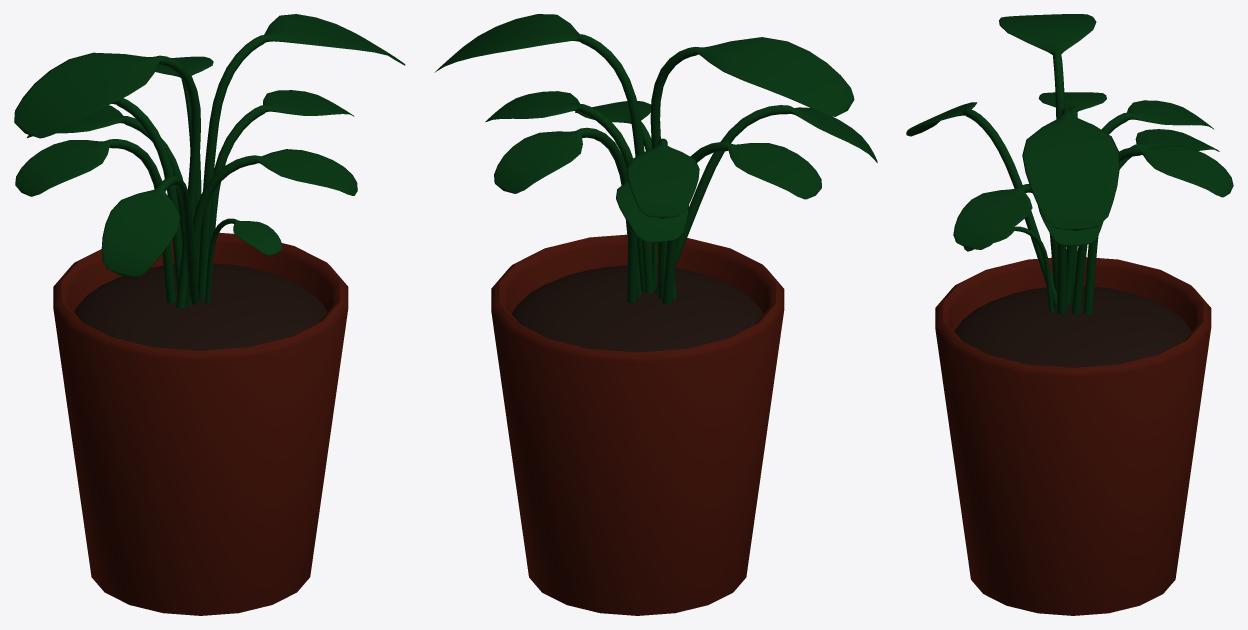
The model's file is Pot.fbx.
3 renders of one model, left to right at view 1: azimuth 30°, elevation 25°; view 2: azimuth 150°, elevation 25°; view 3: azimuth 270°, elevation 25°, orthographic. The views are drawn at different scales.
Visible parts, largest first — view 1: Cylinder001, Sphere001, Cylinder009, Cylinder008, Cylinder002, Cylinder003, Cylinder006, Cylinder010, Cylinder004, Cylinder005, Cylinder007; view 2: Cylinder001, Sphere001, Cylinder009, Cylinder004, Cylinder007, Cylinder002, Cylinder008, Cylinder006, Cylinder005, Cylinder003; view 3: Cylinder001, Sphere001, Cylinder009, Cylinder003, Cylinder007, Cylinder004, Cylinder008, Cylinder005, Cylinder006, Cylinder002, Cylinder010.
Boxes of the visible parts, bbox=[...] form: Cylinder001: bbox=[53, 232, 348, 615]; Sphere001: bbox=[74, 263, 327, 350]; Cylinder009: bbox=[14, 14, 405, 308]; Cylinder008: bbox=[101, 175, 198, 304]; Cylinder002: bbox=[15, 139, 175, 303]; Cylinder003: bbox=[186, 149, 357, 305]; Cylinder006: bbox=[209, 90, 354, 248]; Cylinder010: bbox=[205, 218, 282, 303]; Cylinder004: bbox=[111, 98, 182, 293]; Cylinder005: bbox=[27, 105, 183, 244]; Cylinder007: bbox=[155, 56, 213, 284]; Cylinder001: bbox=[491, 234, 784, 615]; Sphere001: bbox=[512, 265, 763, 352]; Cylinder009: bbox=[434, 14, 854, 299]; Cylinder004: bbox=[627, 138, 699, 299]; Cylinder007: bbox=[494, 127, 641, 297]; Cylinder002: bbox=[662, 142, 821, 305]; Cylinder008: bbox=[655, 105, 877, 294]; Cylinder006: bbox=[485, 91, 645, 292]; Cylinder005: bbox=[616, 181, 688, 302]; Cylinder003: bbox=[575, 101, 651, 150]; Cylinder001: bbox=[935, 257, 1211, 615]; Sphere001: bbox=[954, 286, 1191, 367]; Cylinder009: bbox=[999, 14, 1119, 311]; Cylinder003: bbox=[953, 184, 1057, 292]; Cylinder007: bbox=[1071, 145, 1233, 314]; Cylinder004: bbox=[1066, 100, 1214, 305]; Cylinder008: bbox=[906, 102, 1056, 308]; Cylinder005: bbox=[1083, 129, 1219, 314]; Cylinder006: bbox=[1038, 206, 1103, 314]; Cylinder002: bbox=[1038, 92, 1106, 302]; Cylinder010: bbox=[964, 226, 1053, 312].
Bounding box in the file's own units: 45.05 × 35.06 × 58.97.
